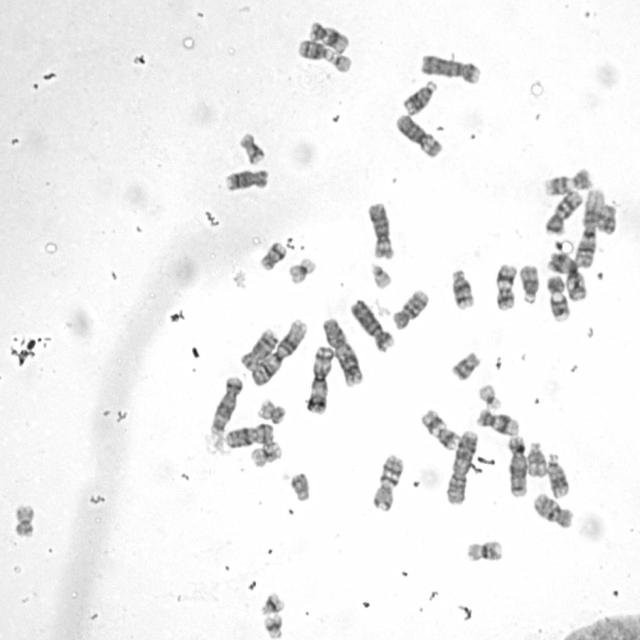A1: (248, 314, 310, 388), (573, 184, 606, 268)
A2: (318, 313, 364, 388), (442, 426, 480, 506)
A3: (545, 248, 589, 302), (304, 342, 335, 415)
B4: (347, 294, 397, 352), (417, 50, 484, 85)
B5: (207, 372, 246, 436), (504, 432, 530, 498)
C10: (389, 284, 431, 332), (530, 488, 576, 530)
C11: (418, 404, 460, 452), (492, 260, 520, 311)
C12: (306, 16, 351, 54), (473, 404, 522, 437)
C6: (392, 109, 444, 159), (364, 198, 396, 260)
C7: (368, 450, 406, 512), (542, 186, 585, 236)
C8: (237, 324, 280, 372), (222, 164, 270, 192)
C9: (541, 164, 594, 197), (543, 272, 573, 323)
D13: (400, 75, 439, 116), (544, 448, 572, 499)
D14: (447, 264, 477, 311), (295, 36, 332, 61)
D15: (518, 260, 542, 305), (524, 436, 549, 478)
E16: (462, 536, 506, 563), (248, 438, 284, 468)
E17: (256, 236, 288, 272), (239, 132, 268, 166)
E18: (448, 347, 482, 382), (594, 198, 619, 236)
F19: (285, 253, 318, 285), (475, 379, 503, 411)
F20: (10, 499, 38, 538), (255, 395, 288, 425)
G21: (256, 588, 286, 616), (260, 610, 285, 639)
G22: (368, 259, 393, 290), (326, 48, 354, 74)
X: (222, 419, 276, 449)
